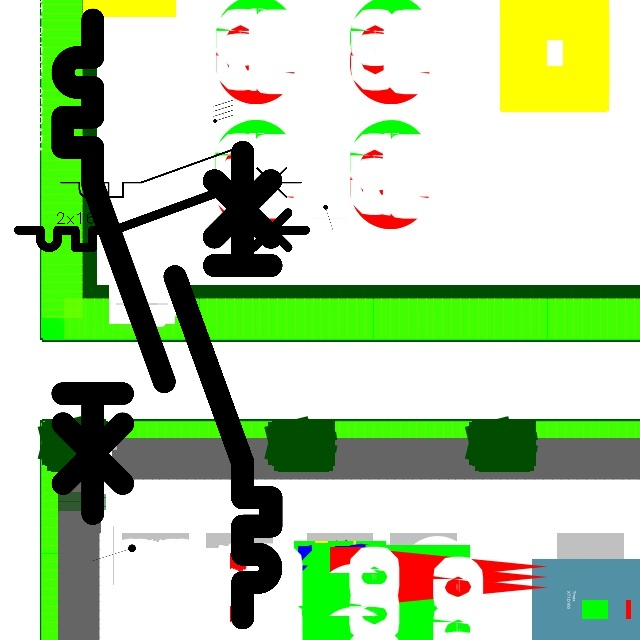interruptor_termomagnetico: (50, 7, 177, 526), (163, 140, 283, 629), (11, 181, 313, 255), (55, 142, 307, 203)
